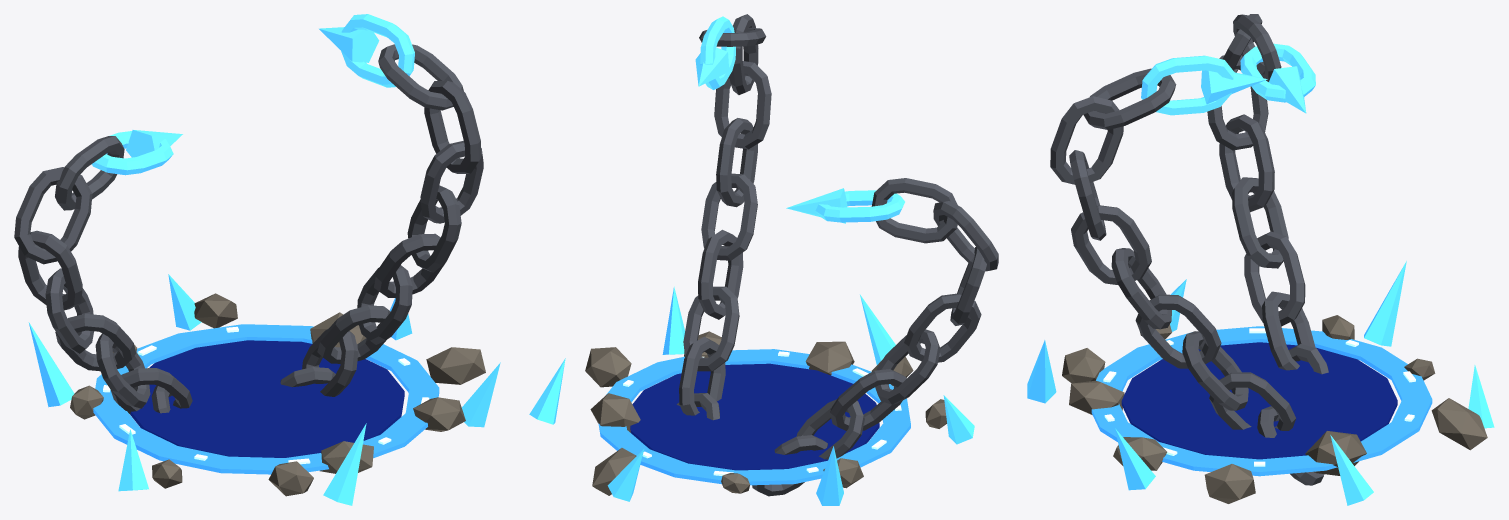
Rendered from correntes_arcanas.glb.
3 views of the same model, side by side, from view 1: azimuth 30°, elevation 25°; view 2: azimuth 150°, elevation 25°; view 3: azimuth 270°, elevation 25° (orthographic). The views are drawn at different scales.
Visible parts, largest first — view 1: Cylinder.001, Cylinder, B_elo6, A_elo7, A_elo8, A_elo6, B_elo5, B_elo7, A_elo9, A_elo5, A_elo3, A_elo4 (+22 smaller); view 2: Cylinder.001, Cylinder, B_elo7, A_elo4, A_elo2, A_elo6, A_elo3, B_elo4, A_elo5, B_elo3, B_elo2, B_elo6 (+21 smaller); view 3: Cylinder.001, Cylinder, A_elo7, A_elo5, B_elo4, A_elo8, B_elo2, B_elo3, A_elo3, A_elo9, A_elo2, A_elo4 (+23 smaller).
Boxes of the visible parts, left/top/right/bottom form: Cylinder.001: left=130, top=340, right=404, bottom=457; Cylinder: left=93, top=324, right=439, bottom=474; B_elo6: left=14, top=167, right=92, bottom=264; A_elo7: left=424, top=80, right=481, bottom=173; A_elo8: left=378, top=44, right=463, bottom=110; A_elo6: left=420, top=141, right=483, bottom=223; B_elo5: left=18, top=230, right=82, bottom=310; B_elo7: left=55, top=136, right=124, bottom=210; A_elo9: left=341, top=14, right=414, bottom=87; A_elo5: left=407, top=185, right=461, bottom=272; A_elo3: left=357, top=265, right=412, bottom=344; A_elo4: left=374, top=233, right=446, bottom=297; Cylinder.001: left=630, top=363, right=879, bottom=470; Cylinder: left=598, top=349, right=910, bottom=485; B_elo7: left=871, top=178, right=957, bottom=243; A_elo4: left=701, top=173, right=757, bottom=260; A_elo2: left=683, top=286, right=739, bottom=371; A_elo6: left=714, top=61, right=771, bottom=149; A_elo3: left=698, top=229, right=743, bottom=319; B_elo4: left=904, top=293, right=981, bottom=362; A_elo5: left=716, top=118, right=757, bottom=207; B_elo3: left=875, top=329, right=940, bottom=404; B_elo2: left=830, top=369, right=906, bottom=430; B_elo6: left=933, top=201, right=998, bottom=271; Cylinder.001: left=1121, top=342, right=1397, bottom=459; Cylinder: left=1091, top=326, right=1432, bottom=476; A_elo7: left=1050, top=96, right=1123, bottom=184; A_elo5: left=1071, top=205, right=1151, bottom=285; B_elo4: left=1219, top=114, right=1274, bottom=212; A_elo8: left=1083, top=68, right=1176, bottom=129; B_elo2: left=1244, top=231, right=1305, bottom=326; B_elo3: left=1232, top=177, right=1288, bottom=268; A_elo3: left=1135, top=294, right=1221, bottom=368; A_elo9: left=1141, top=55, right=1235, bottom=115; A_elo2: left=1182, top=331, right=1248, bottom=410; A_elo4: left=1111, top=248, right=1171, bottom=329.
Size of the model in its own units: 2.26 by 2.11 by 2.03.
